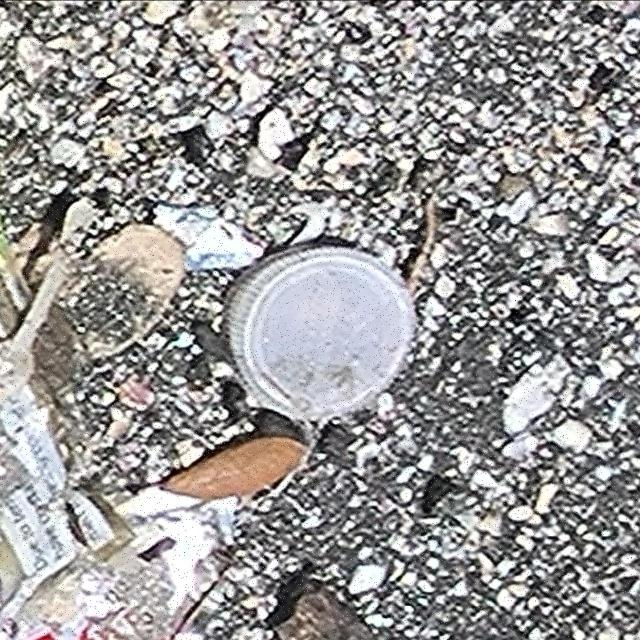plastic_waste: (222, 241, 418, 423)
